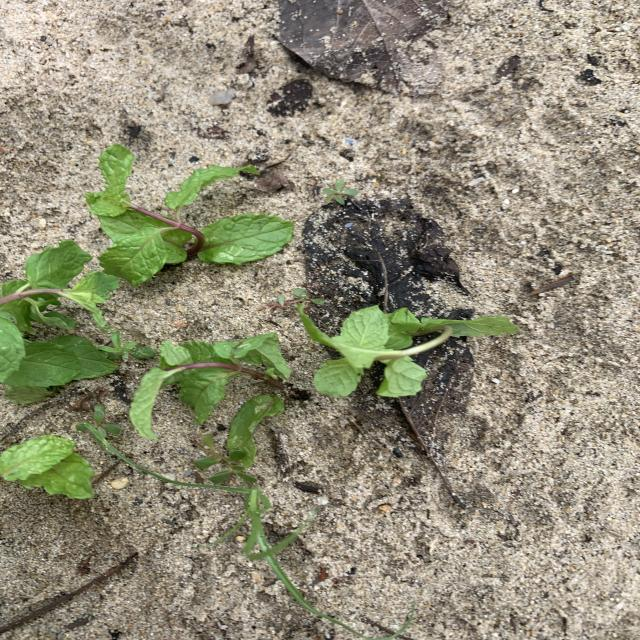crop: (85, 145, 293, 284), (129, 334, 290, 468), (298, 305, 519, 397), (0, 312, 117, 404), (0, 240, 119, 329), (0, 435, 94, 499)
weed: (85, 423, 350, 630), (194, 450, 257, 484), (74, 405, 121, 441), (97, 332, 156, 359), (261, 288, 325, 310), (321, 180, 358, 206)
